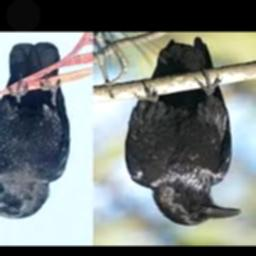Crow: (124, 37, 243, 226), (0, 43, 71, 220)
